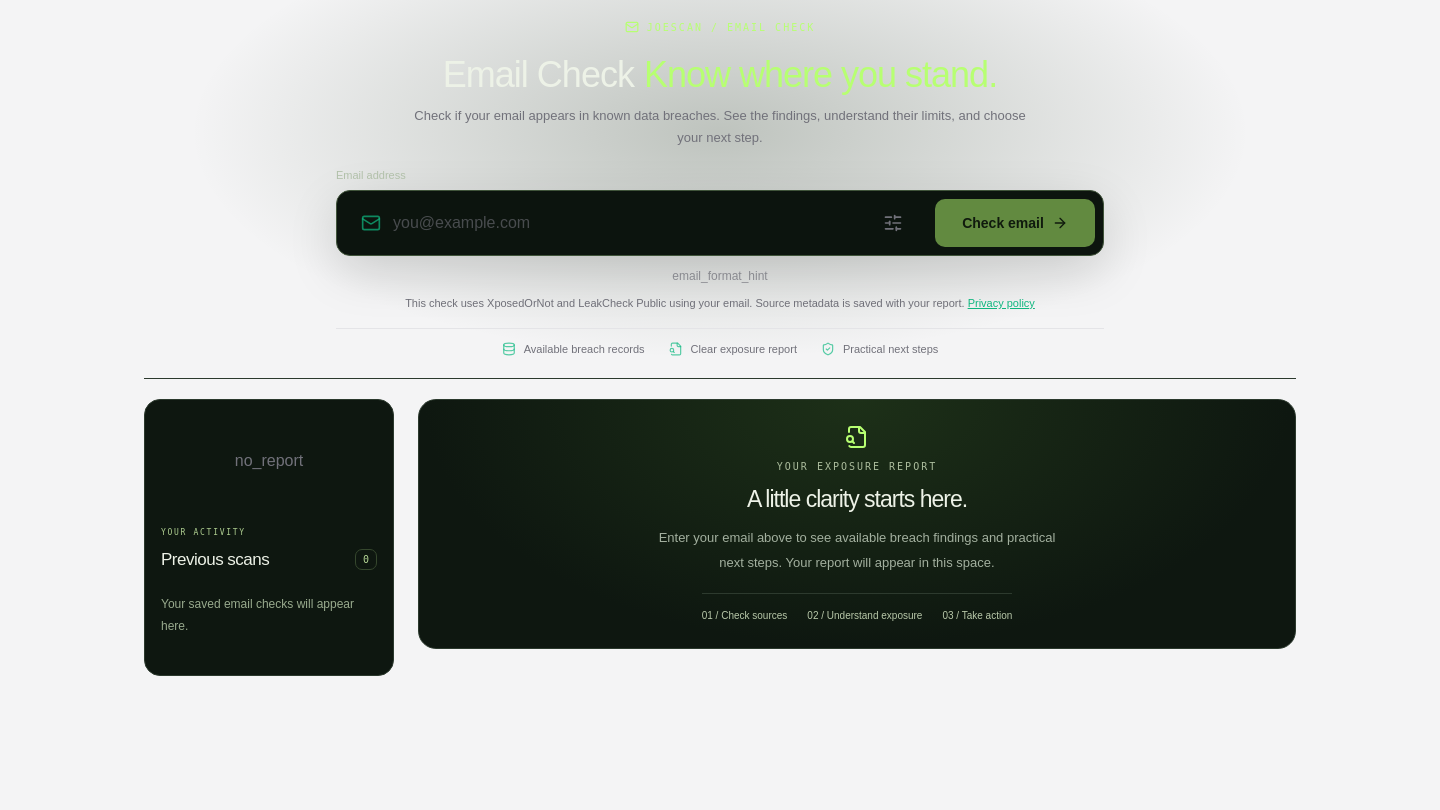
it: EmailAnalyzer typo suggestion (no silent domain rewrite) › shows a tap-to-adopt suggestion (and consumes nothing) for a typo domain with no MX
Step 1. Type "user@gmial.com" into the field with placeholder "you@example.com" → {"x": 634, "y": 223}, box [345,199,923,247]
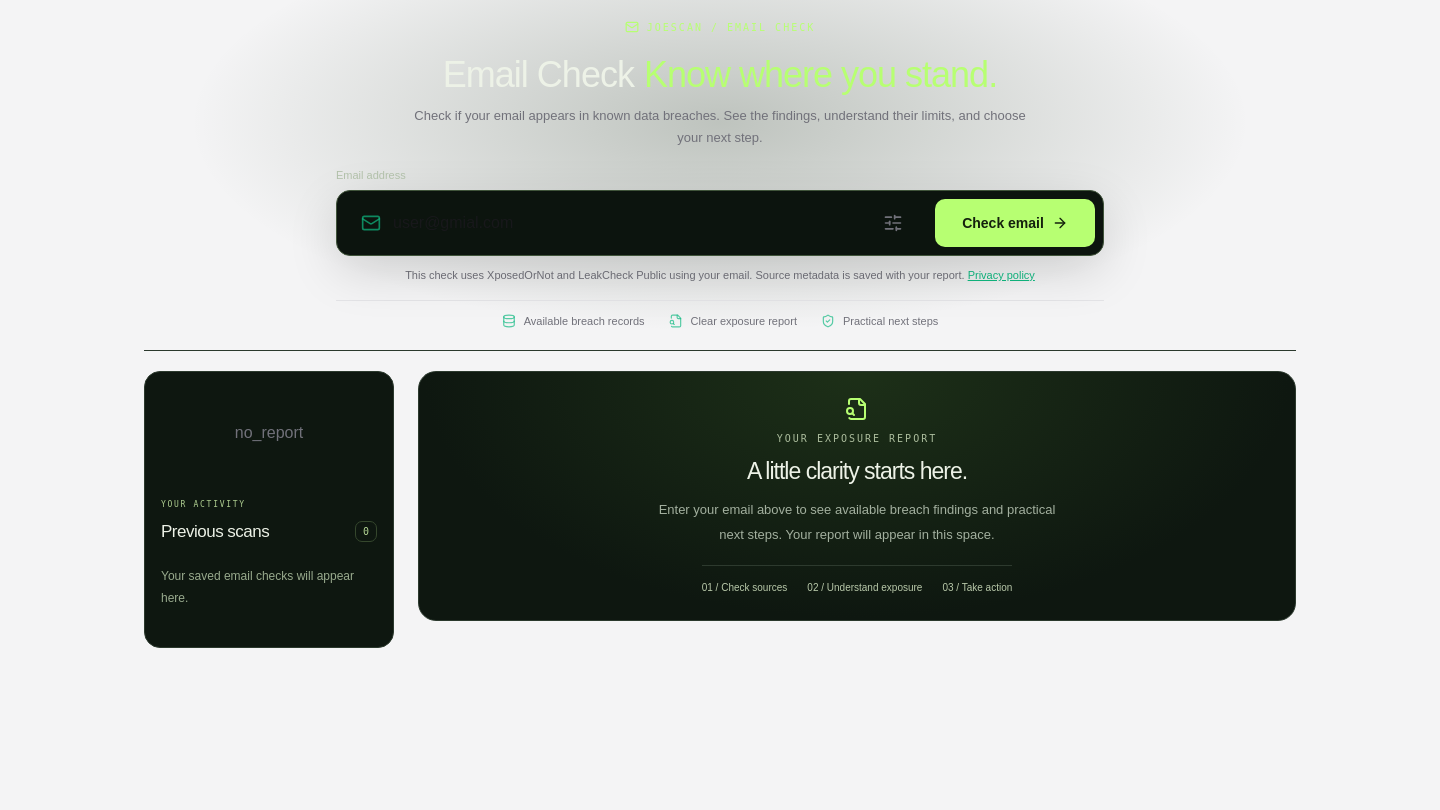
Step 2. Click the button "Check email" → {"x": 1015, "y": 223}, box [935,199,1095,247]
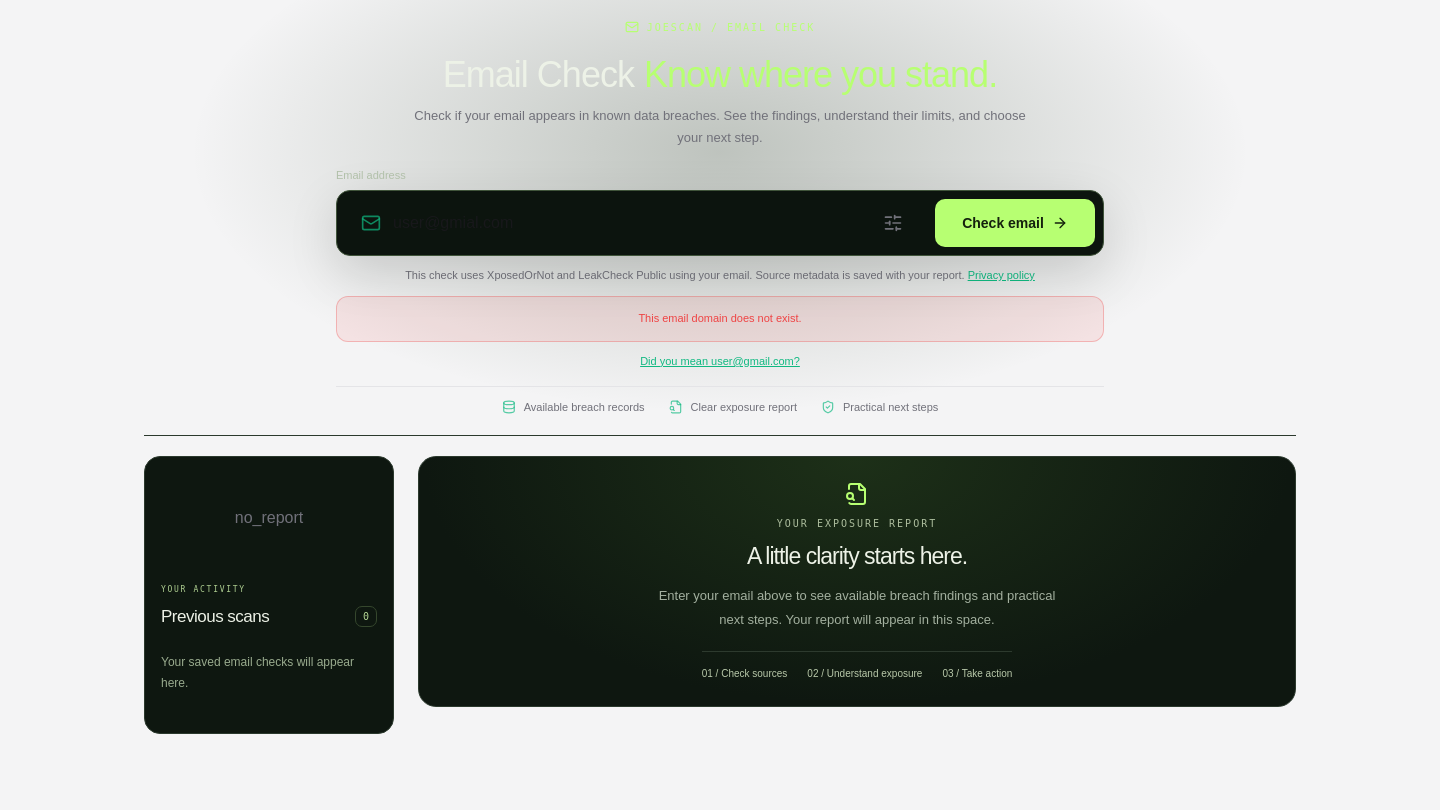
Check: the message reads "This email domain does not exist.", box [638,312,802,324]
Check: the button "Did you mean user@gmail.com?" is shown, box [640,352,800,372]
